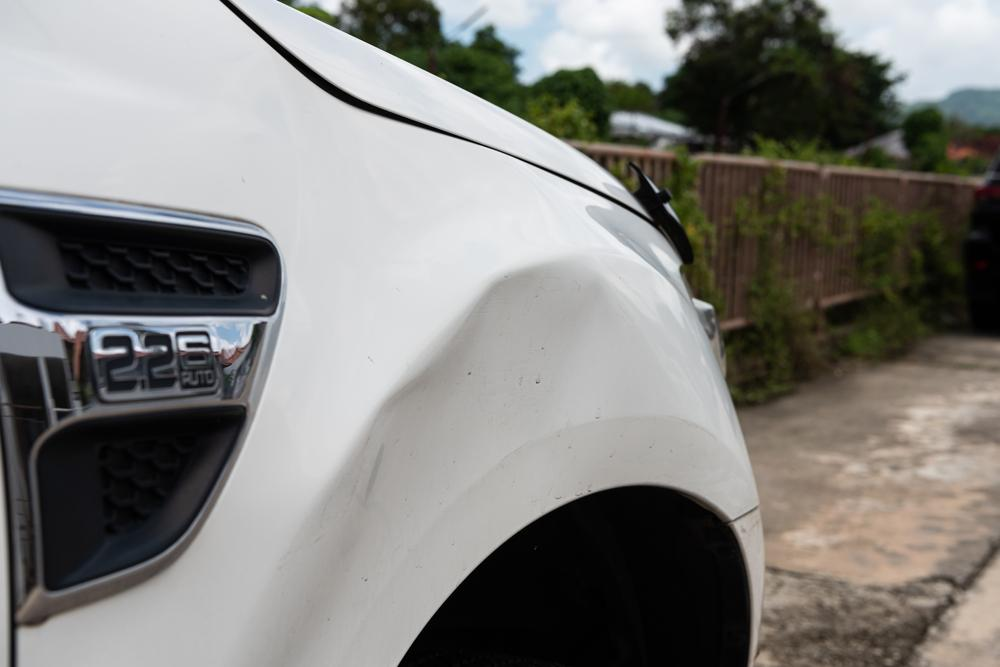dent: (274, 262, 627, 667)
